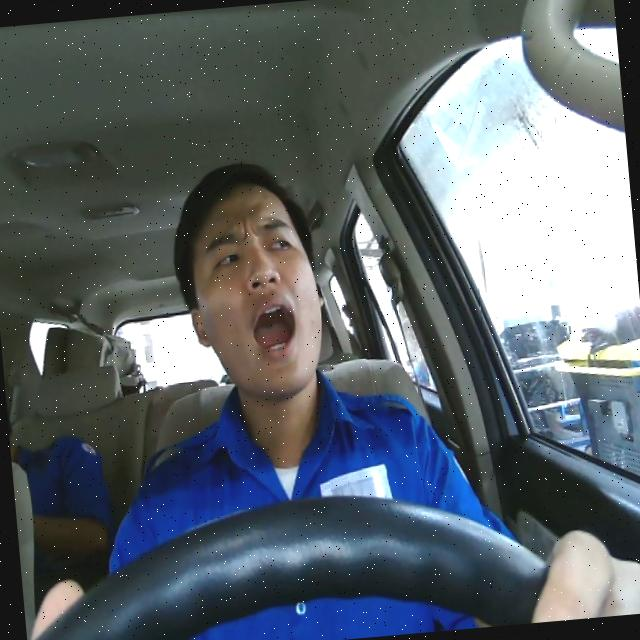yarning: (182, 180, 326, 406)
